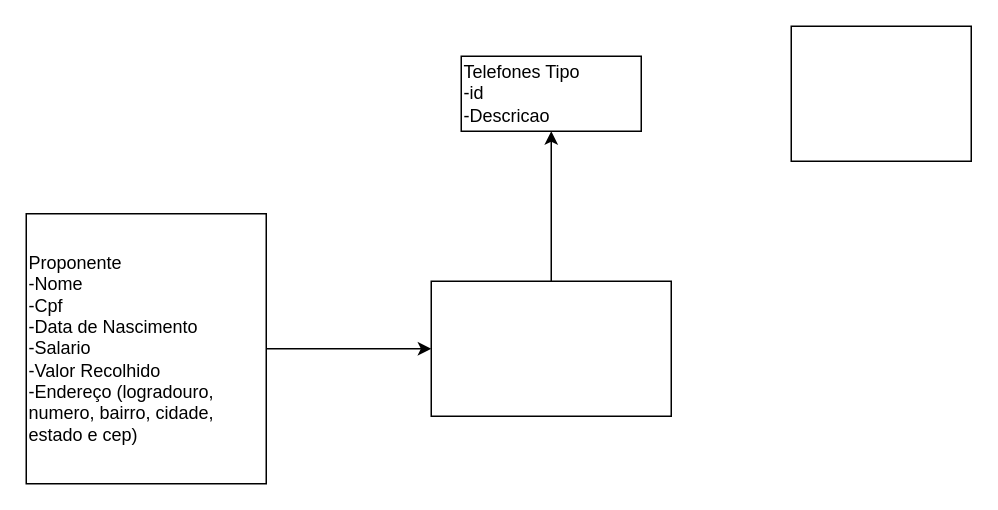
Some shapes in this 998 by 510 pixel diagram are drawn without their labels. Here are the shapes that lost their labels. From the top down, the centre of each, then its label:
(880,93): Aliquotas -id -range_min -range_max -aliquota
(550,348): Contatos -id -id do proponente -id do tipo de telefone -numero
